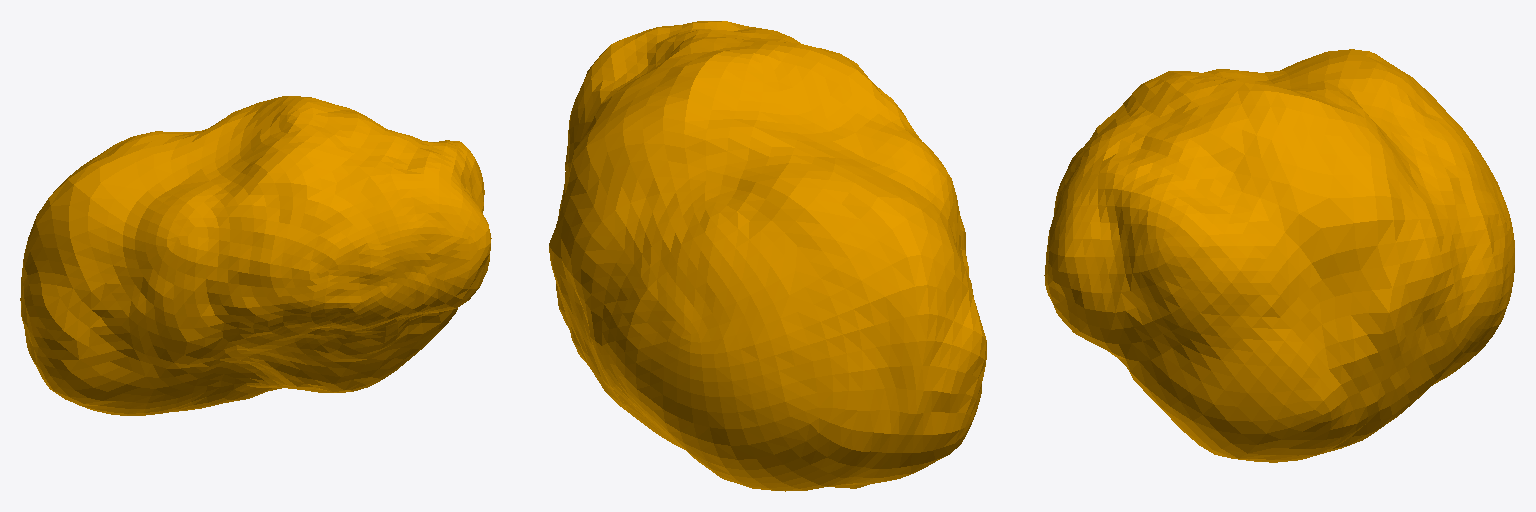
URDF robot description (rock):
<?xml version="1.0" ?>
<robot name="rock">
  <link name="rock">
    <inertial>
      <mass value="0.25"/>
      <origin rpy="0 0 0" xyz="0 0 0"/>
      <inertia ixx="0.00025" ixy="0" ixz="0" iyy="0.00025" iyz="0" izz="0.00025"/>
    </inertial>
    <collision name="rock_collision">
      <origin rpy="0 0 0" xyz="0 0 0"/>
      <geometry>
        <mesh filename="package://rocks/collision/20.stl" scale="1 1 1"/>
      </geometry>
    </collision>
    <visual name="rock_visual">
      <origin rpy="0 0 0" xyz="0 0 0"/>
      <geometry>
        <mesh filename="package://rocks/visual/20.dae" scale="1 1 1"/>
      </geometry>
    </visual>
  </link>
</robot>

--- What the picture shows (computed from the rendered views, not written in the file) ---
The picture shows the robot from 3 angles, left to right: view 1: azimuth 30°, elevation 25°; view 2: azimuth 150°, elevation 25°; view 3: azimuth 270°, elevation 25°; orthographic projection.
Model rock with 1 links and 0 joints (none), rooted at rock, posed every joint at zero.
Visible links, largest first — view 1: rock; view 2: rock; view 3: rock.
Link boxes in pixels (box(x1,y1,x2,y2)): rock: box(20, 96, 491, 415); rock: box(549, 21, 986, 491); rock: box(1044, 49, 1514, 462).
Size in the robot's own frame: 0.0857 by 0.0755 by 0.0646 metres.
Meshes: 1 distinct files referenced, 1 mesh visuals loaded (1 Collada DAE).